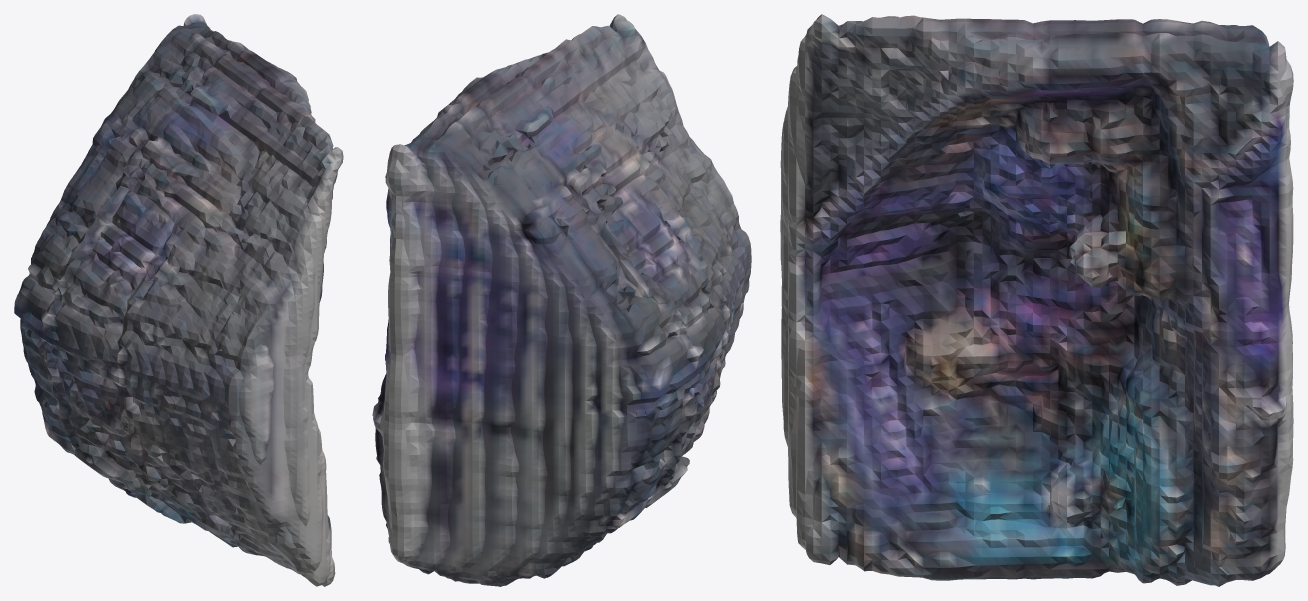
Rendered from building-council-hall.glb.
The picture shows the model from 3 angles, left to right: view 1: azimuth 30°, elevation 25°; view 2: azimuth 150°, elevation 25°; view 3: azimuth 270°, elevation 25°; orthographic projection. The views are drawn at different scales.
Visible parts, largest first — view 1: world; view 2: world; view 3: world.
Part boxes in pixels (<box>): world: <box>14,14,343,586</box>; world: <box>372,14,751,586</box>; world: <box>780,14,1293,586</box>.
Bounding box in the file's own units: 0.6278 × 1.03 × 0.8321.
